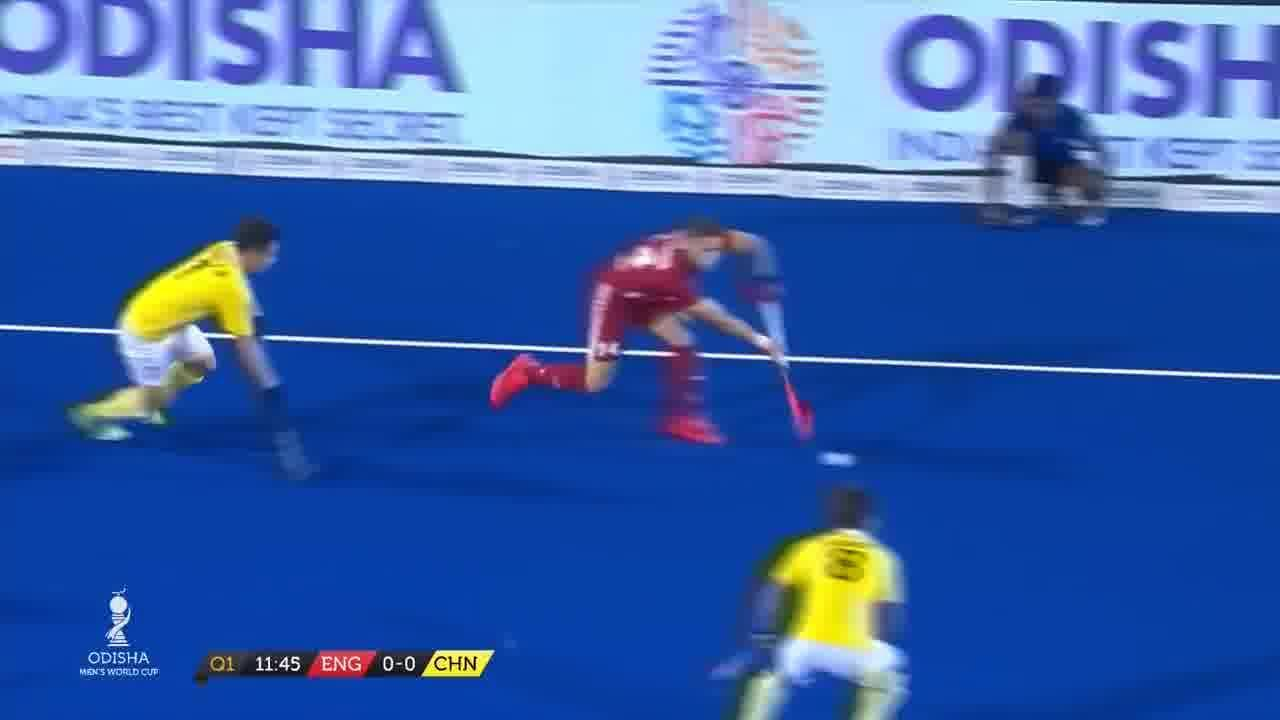ball: (812, 440, 862, 474)
